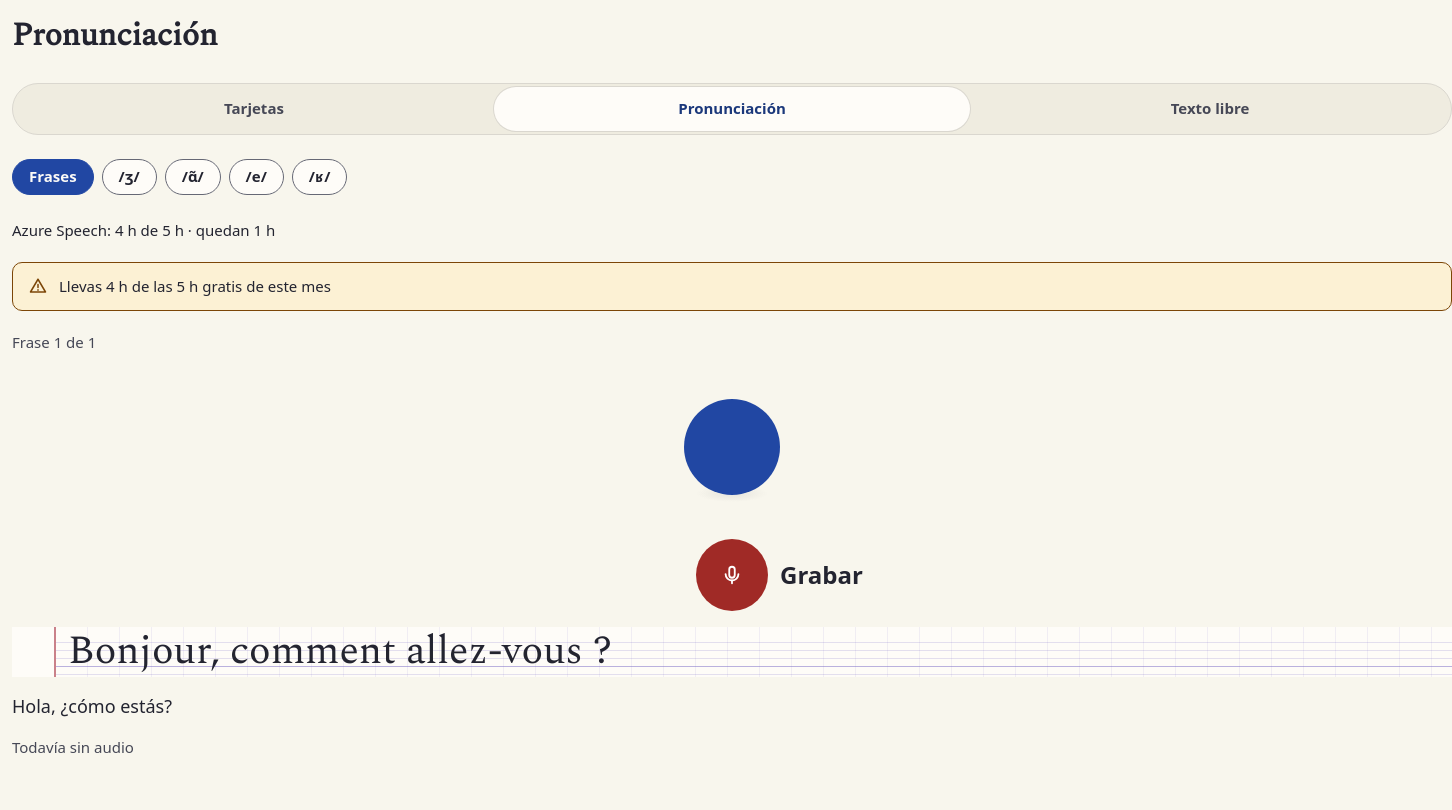
Test: los fonemas débiles se ofrecen como filtros y la cuota avisa sin bloquear
Expected: the text "Llevas 4 h de las 5 h gratis de este mes" is shown, [59,276,331,296]
What coordinates should you click on to do the following:
click the button named "Fonema ʒ"
I would click on:
 (129, 177)
Its box is [102,159,157,195].
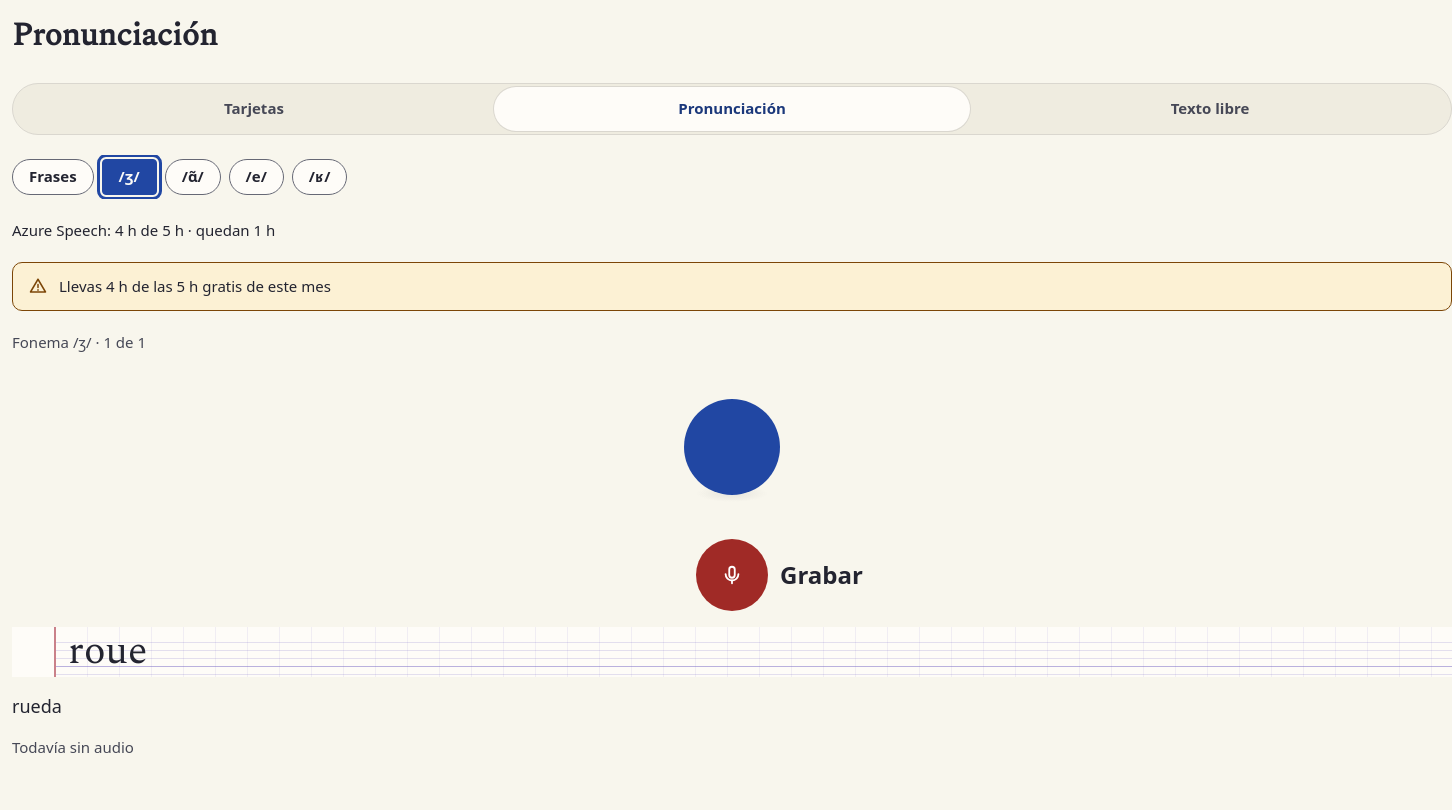
Now the text "roue" is shown, box [12,626,1451,676]
Now the text "Fonema /ʒ/ · 1 de 1" is shown, box [12,332,146,352]
